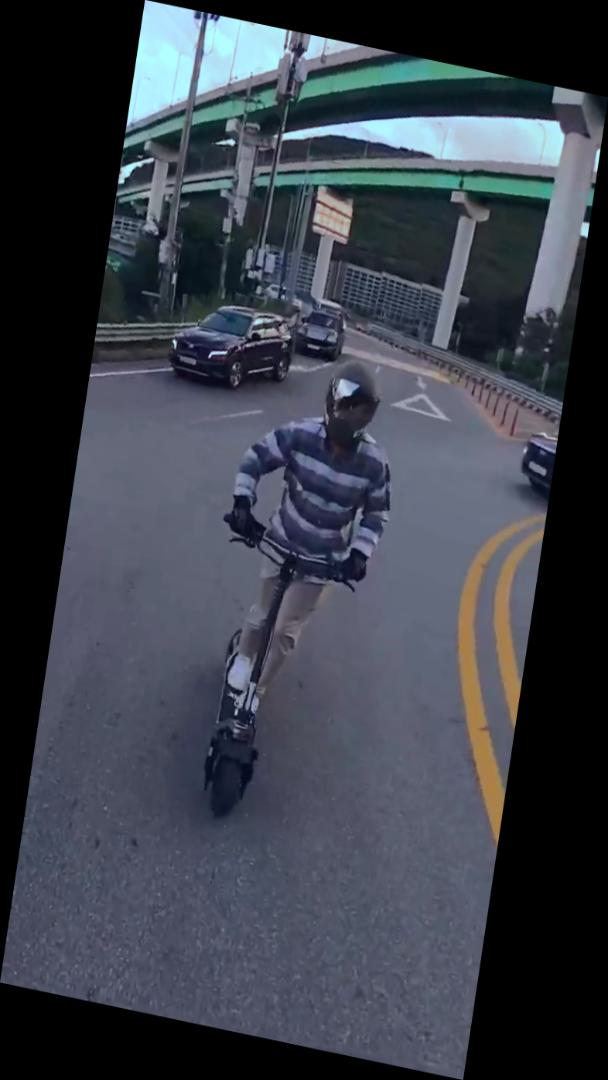helmet: (176, 332, 414, 848)
